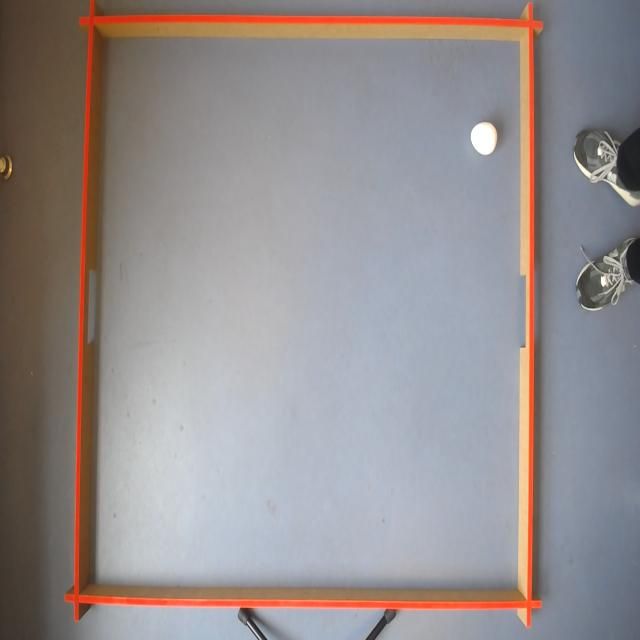egg: (470, 119, 498, 157)
